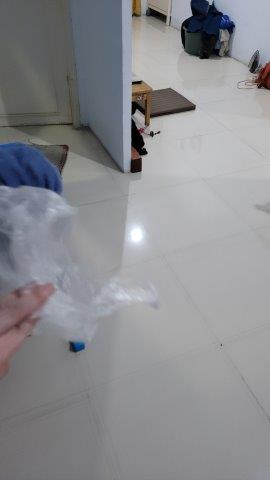plastik: (1, 187, 157, 348)
